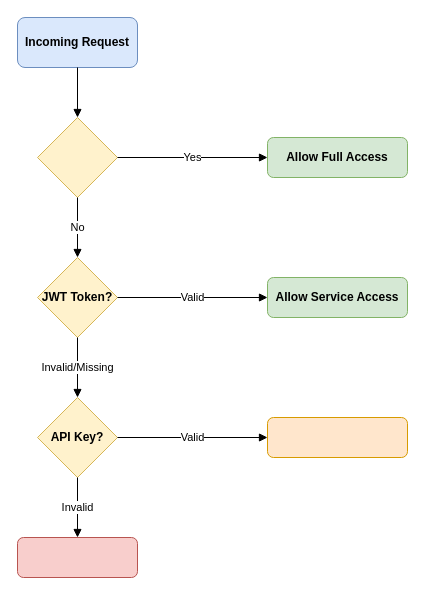
The diagram is 425 pixels wide and 595 high, and some of its shapes have lost their labels. The shapes that lost their labels are listed below. From the top down, each one's centre as x and y in pixels, then its label:
At [77,157]: "Local IP?".
At [337,437]: "Allow Limited Access".
At [77,557]: "Deny Access".
